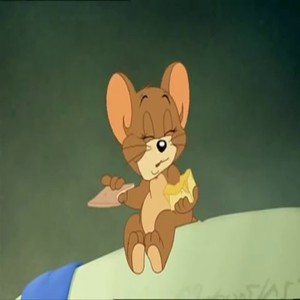Jerry: (94, 60, 208, 274)
